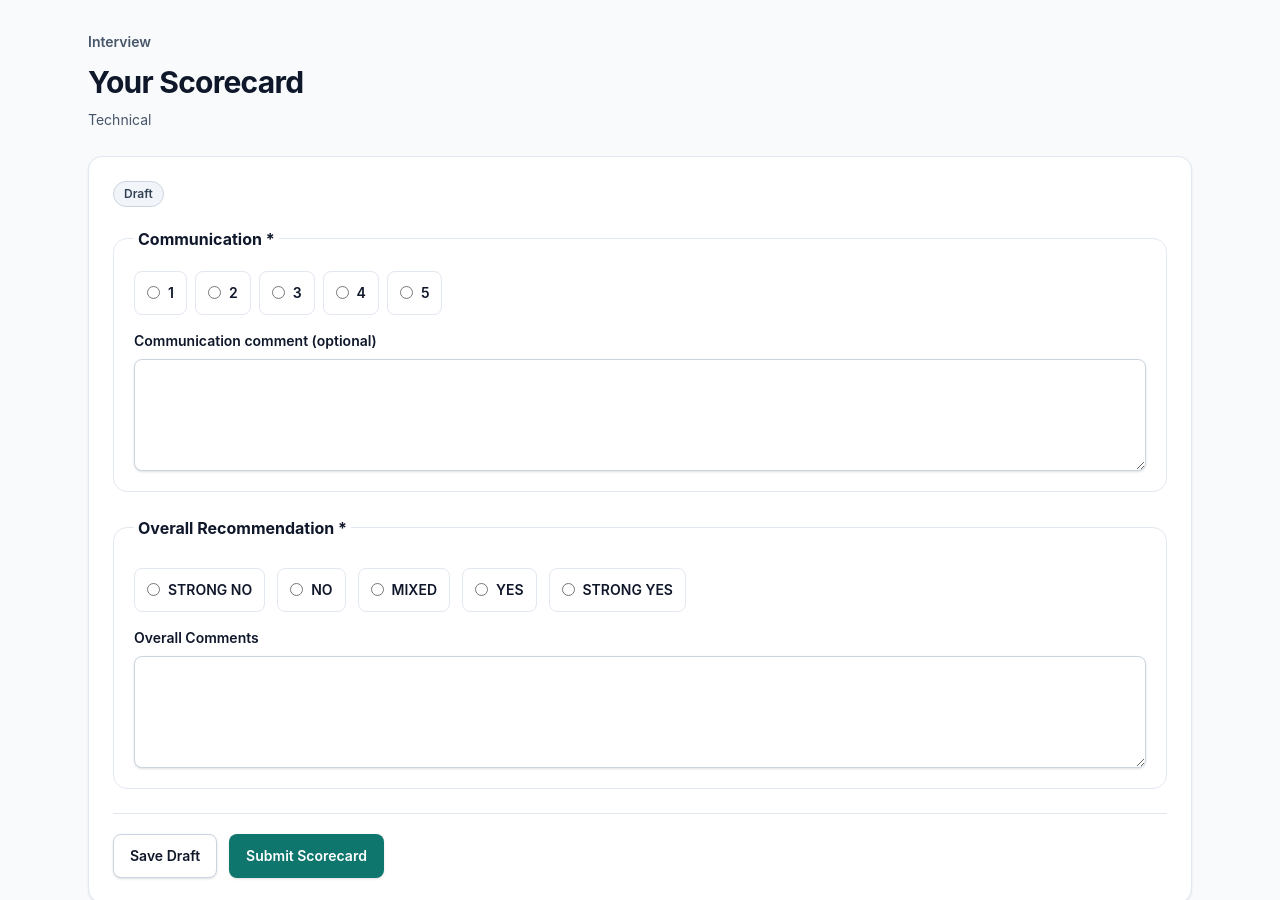
Test: MyScorecardPage › uses an accessible submit confirmation dialog
Click the radio button labelled "5".
click(406, 292)  # box [400,286,413,299]
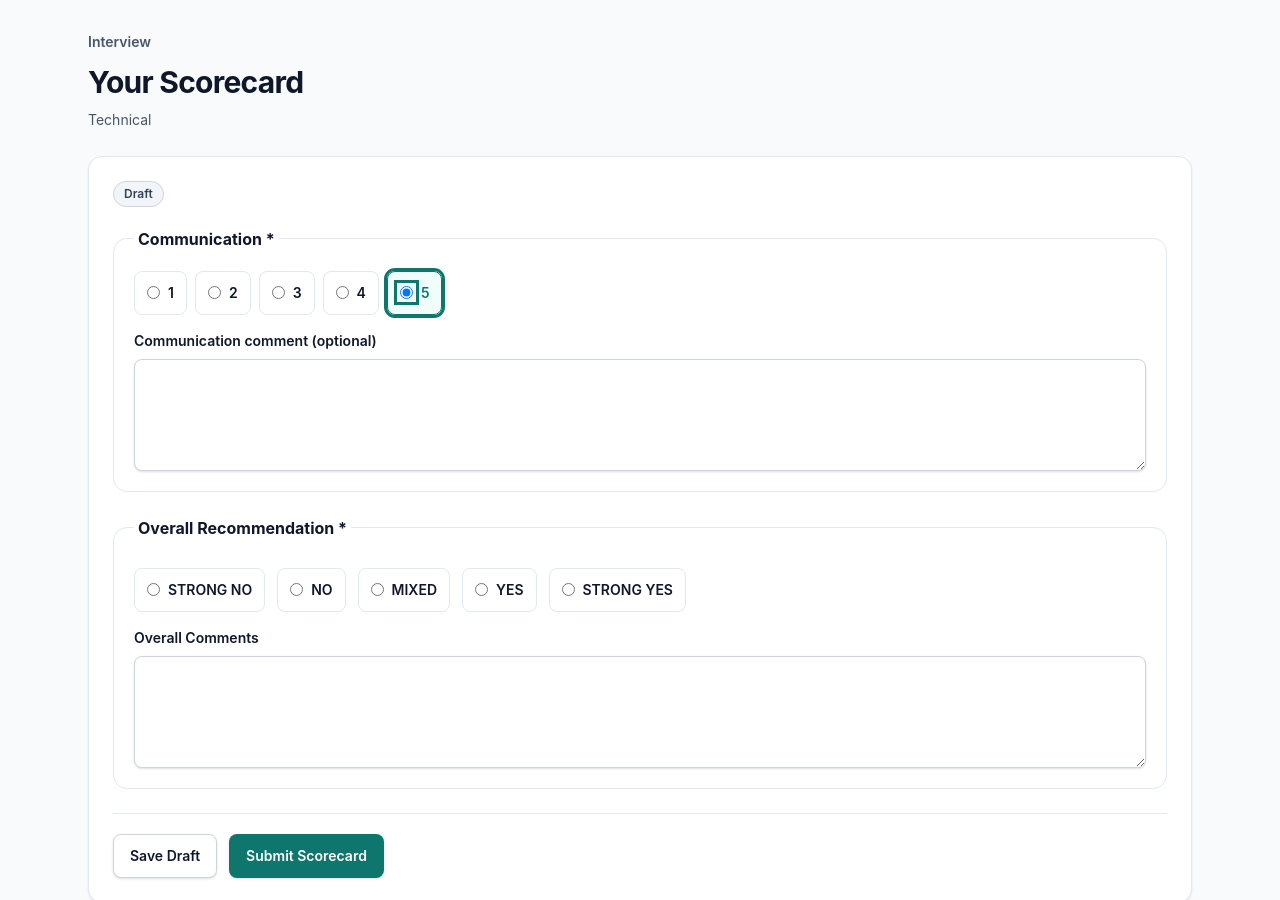
Click the radio button labelled "YES".
click(482, 590)  # box [475,583,488,596]
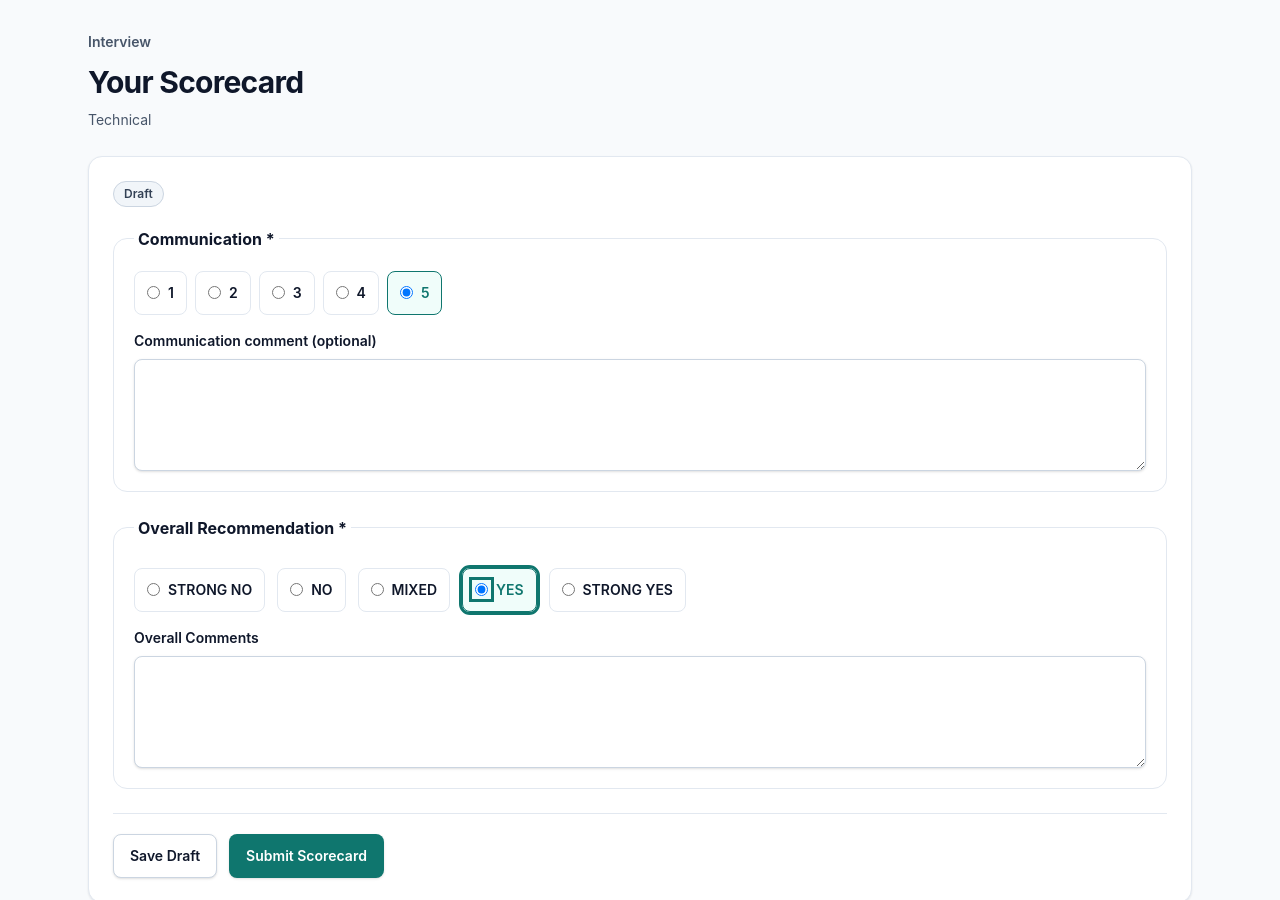
Click the button "Submit Scorecard".
click(306, 856)  # box [229,834,384,878]
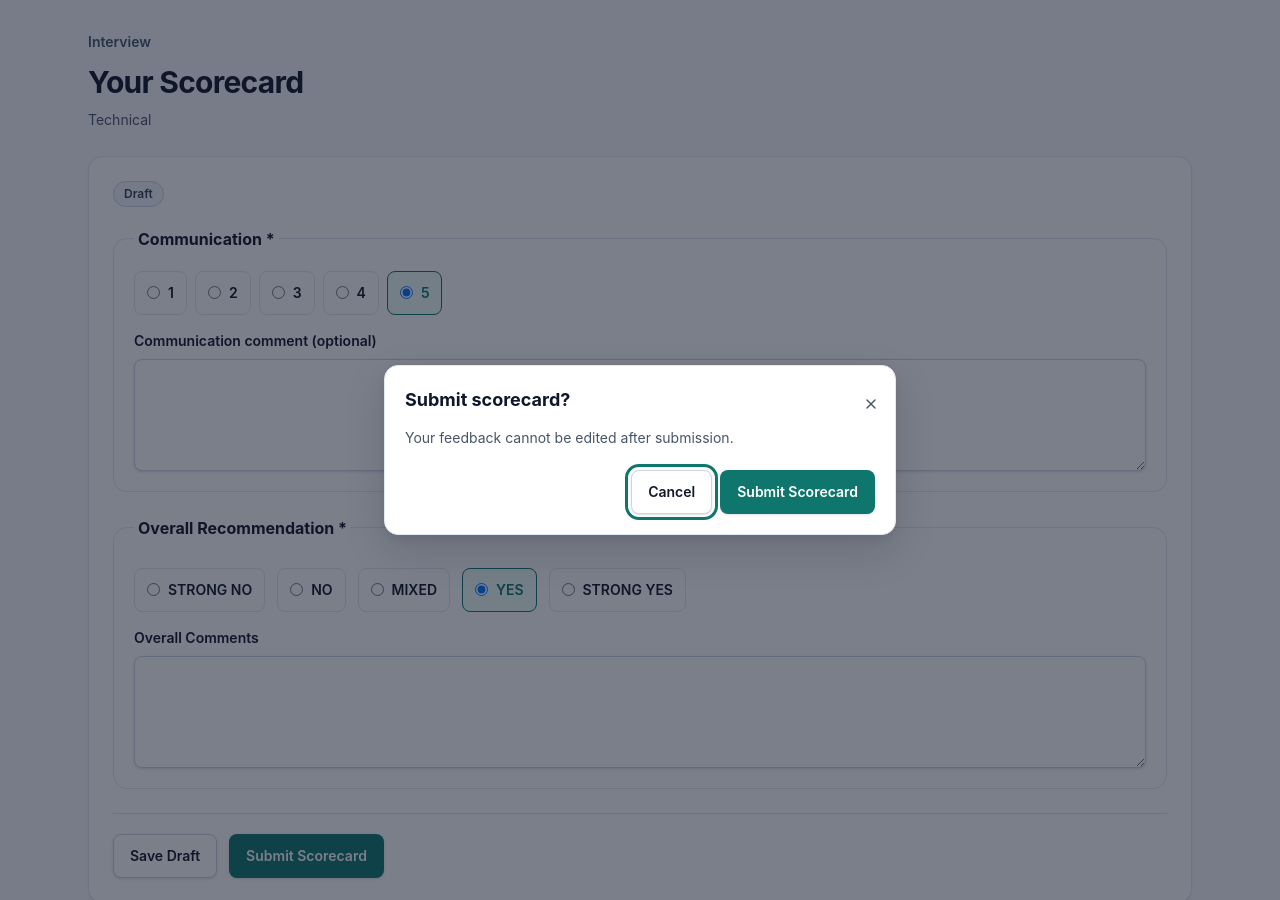
Check: the dialog shows "Submit scorecard?", box [405,389,570,410]
